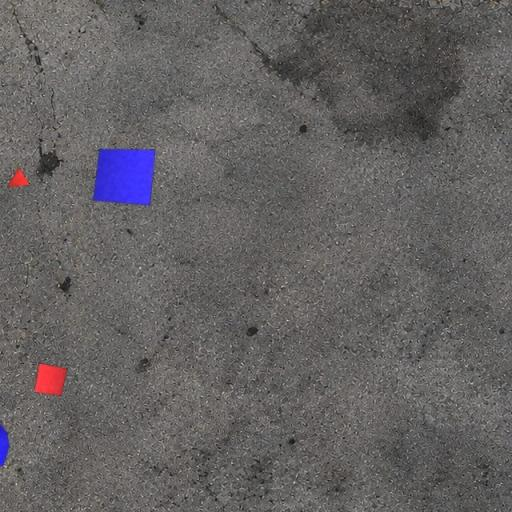BLUE_SQUARE: (92, 148, 156, 206)
RED_SQUARE: (34, 362, 68, 396)
